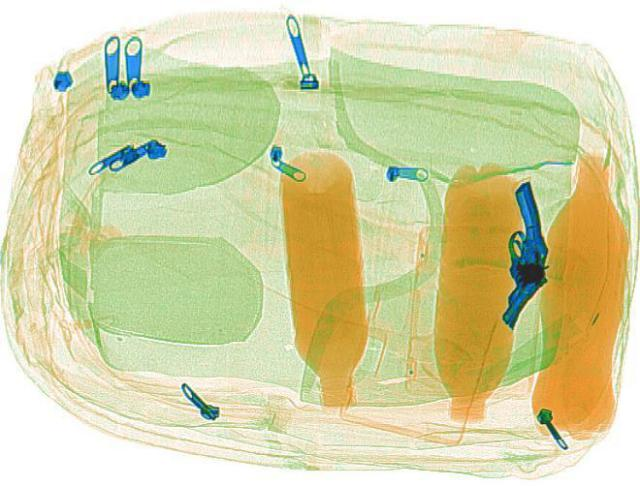Gun: (501, 179, 549, 321)
